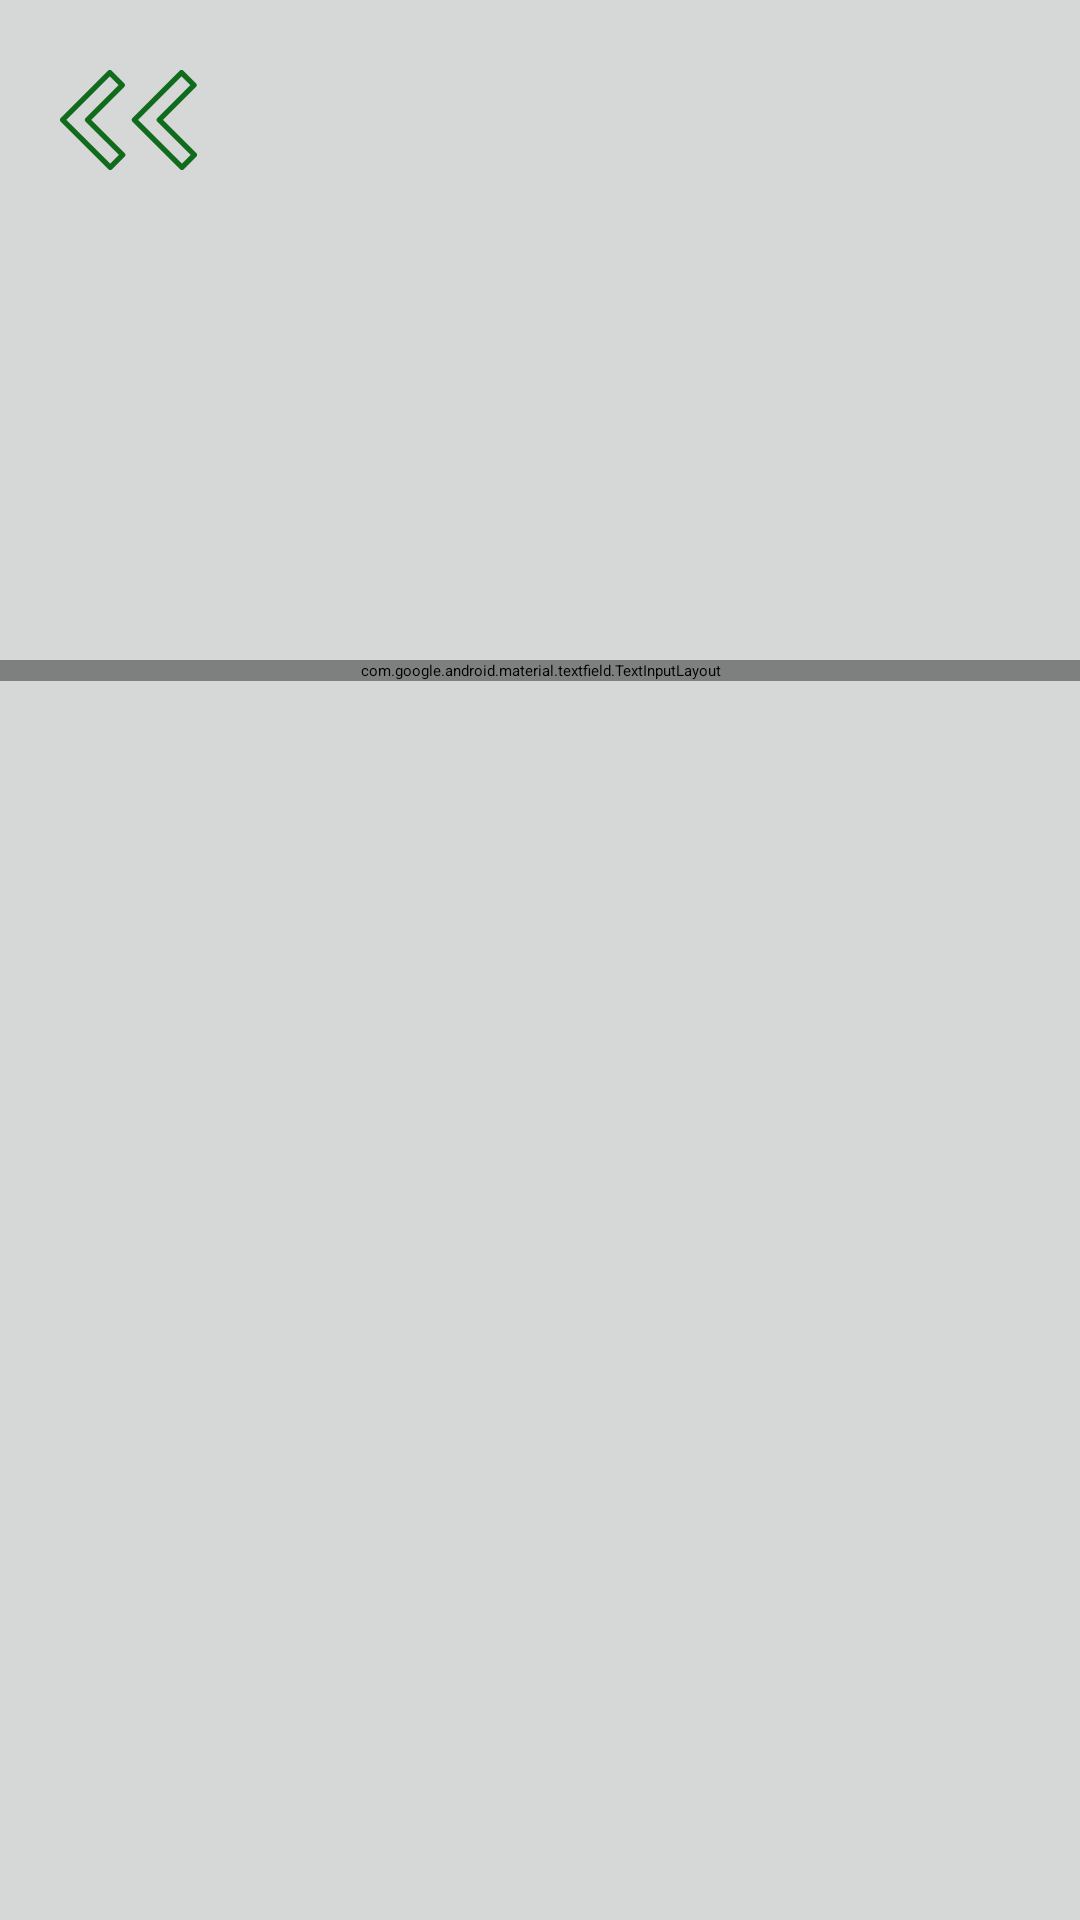

Where to tap for icons on this 1080*1920 app screen, as point (x, y):
back: point (128, 120)
